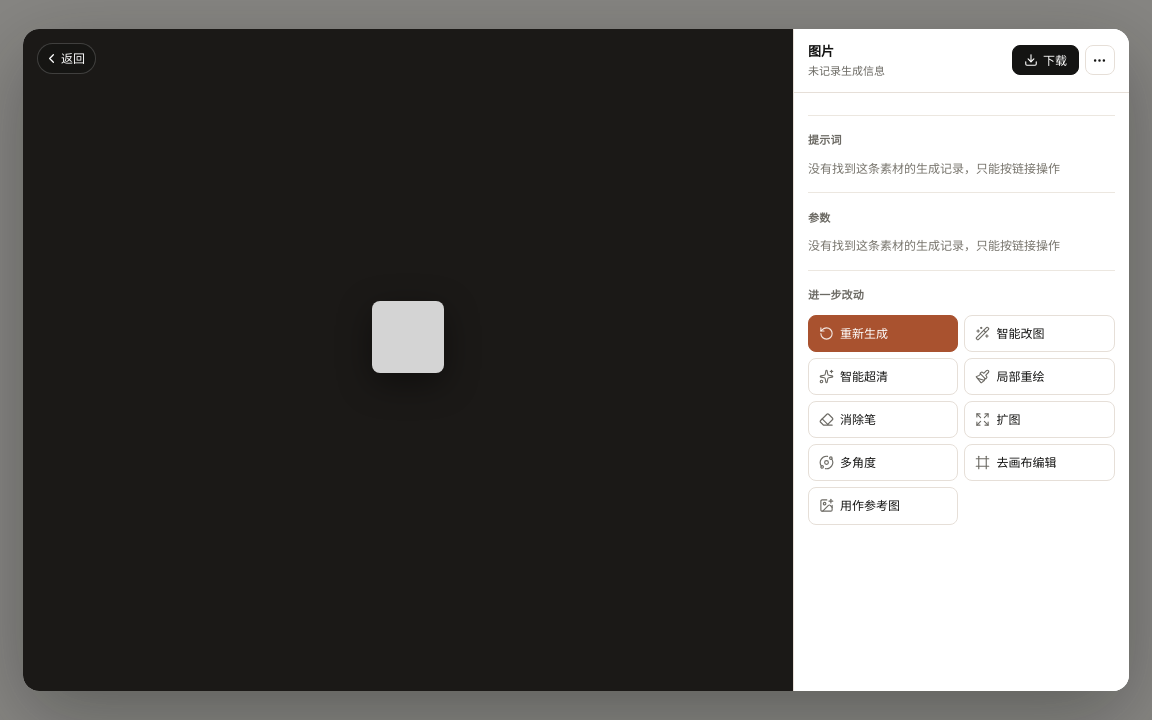
Test case: AssetDetailPane 会话里的裸媒体 › 查不到记录时降级成 URL 模式：图能看、能下载、能导入，但没有删除
Expected: the text "没有找到这条素材的生成记录，只能按链接操作" below "提示词" is shown, [808,161,1060,176]
Expected: the text "未记录生成信息" is shown, [808,64,885,78]
What coordinates should you click on to do the following:
click the button named "更多操作"
I would click on:
 (1100, 60)
Its box is [1085,46,1115,76].
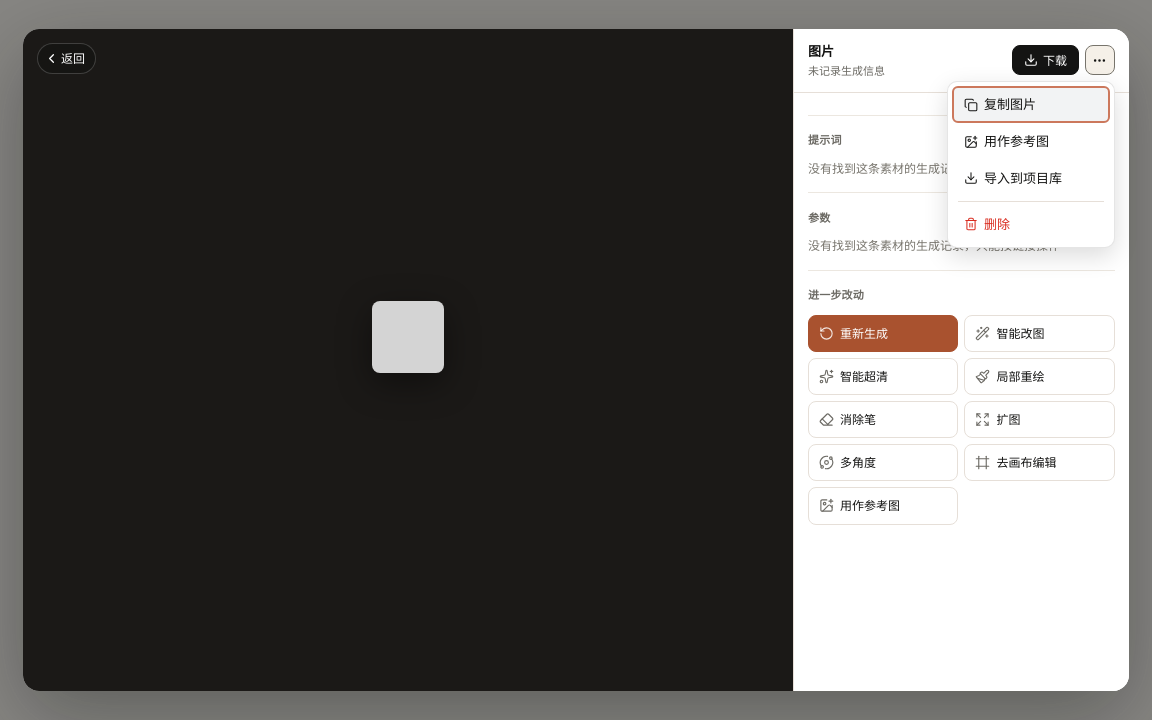
Result: the button "导入到项目库" is shown at [952,160,1110,197]
Result: the button "删除" is disabled at [952,206,1110,243]
